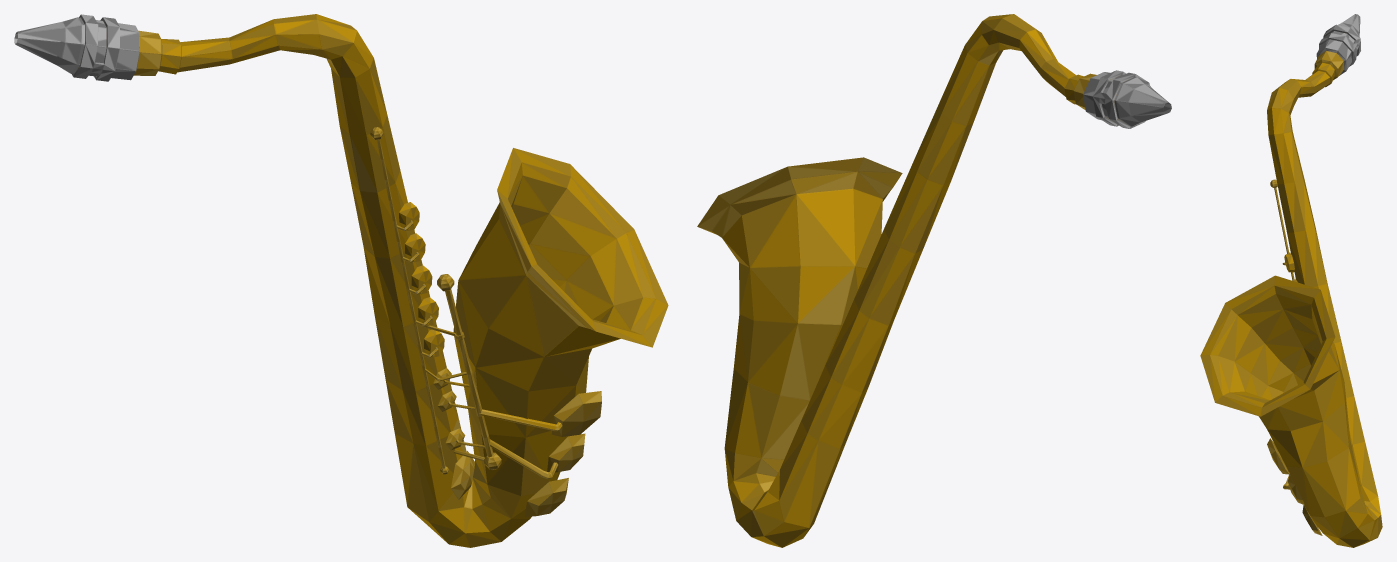
Rendered from saxophone.glb.
3 views of the same model, side by side, from view 1: azimuth 30°, elevation 25°; view 2: azimuth 150°, elevation 25°; view 3: azimuth 270°, elevation 25° (orthographic). The views are drawn at different scales.
Parts seen in each view (by area): view 1: node_id78; view 2: node_id78; view 3: node_id78.
Part boxes in pixels (<box>): node_id78: <box>14,14,668,547</box>; node_id78: <box>697,14,1171,547</box>; node_id78: <box>1200,14,1382,547</box>.
Size of the model in its own units: 4.66 by 4.79 by 2.
Materials: 1 (1 with a texture image).
